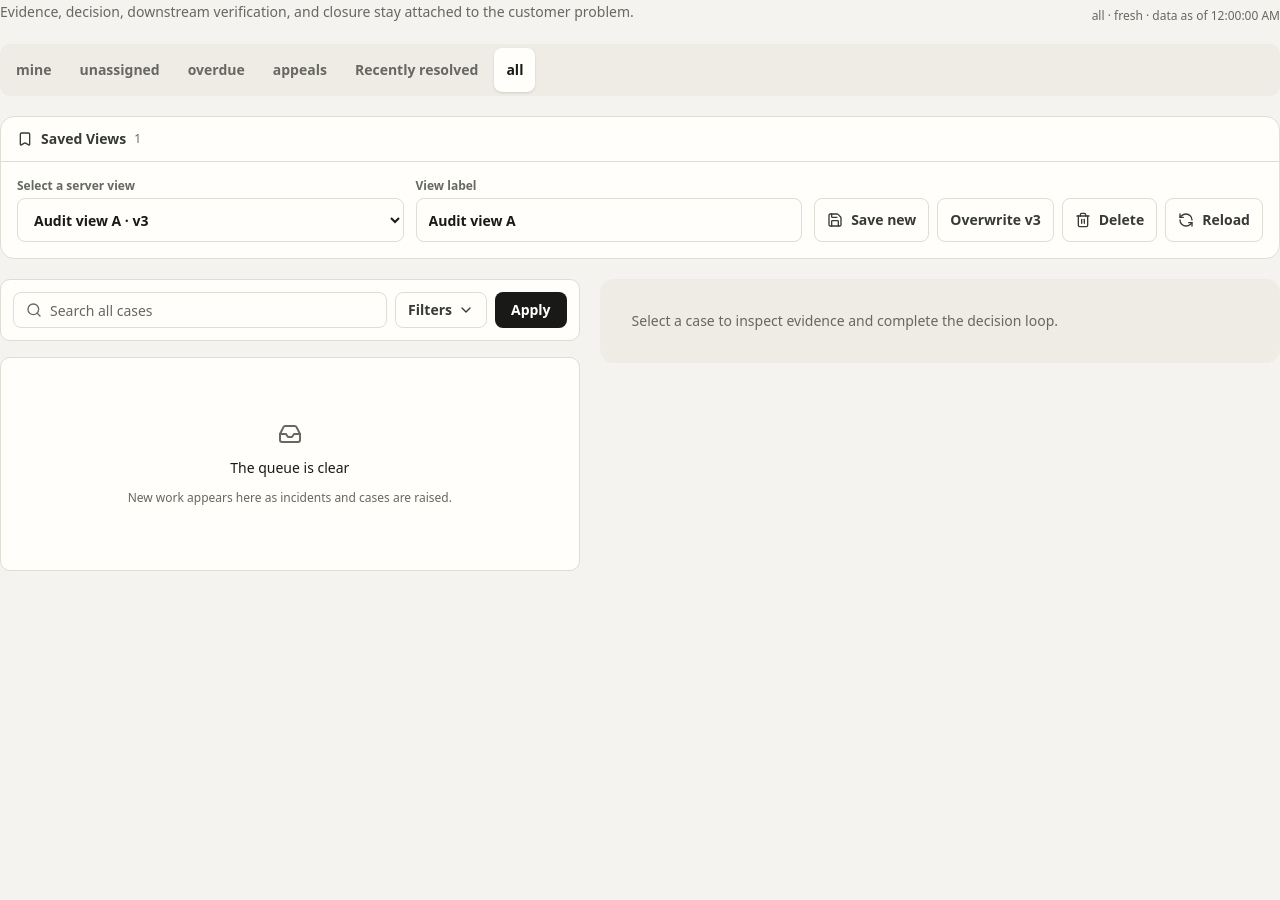
Test case: Saved Views through the Case workspace › describes only the current operator's private view in en confirmations
Click the button "Overwrite v3" at (996, 220), box [937,198,1054,242]
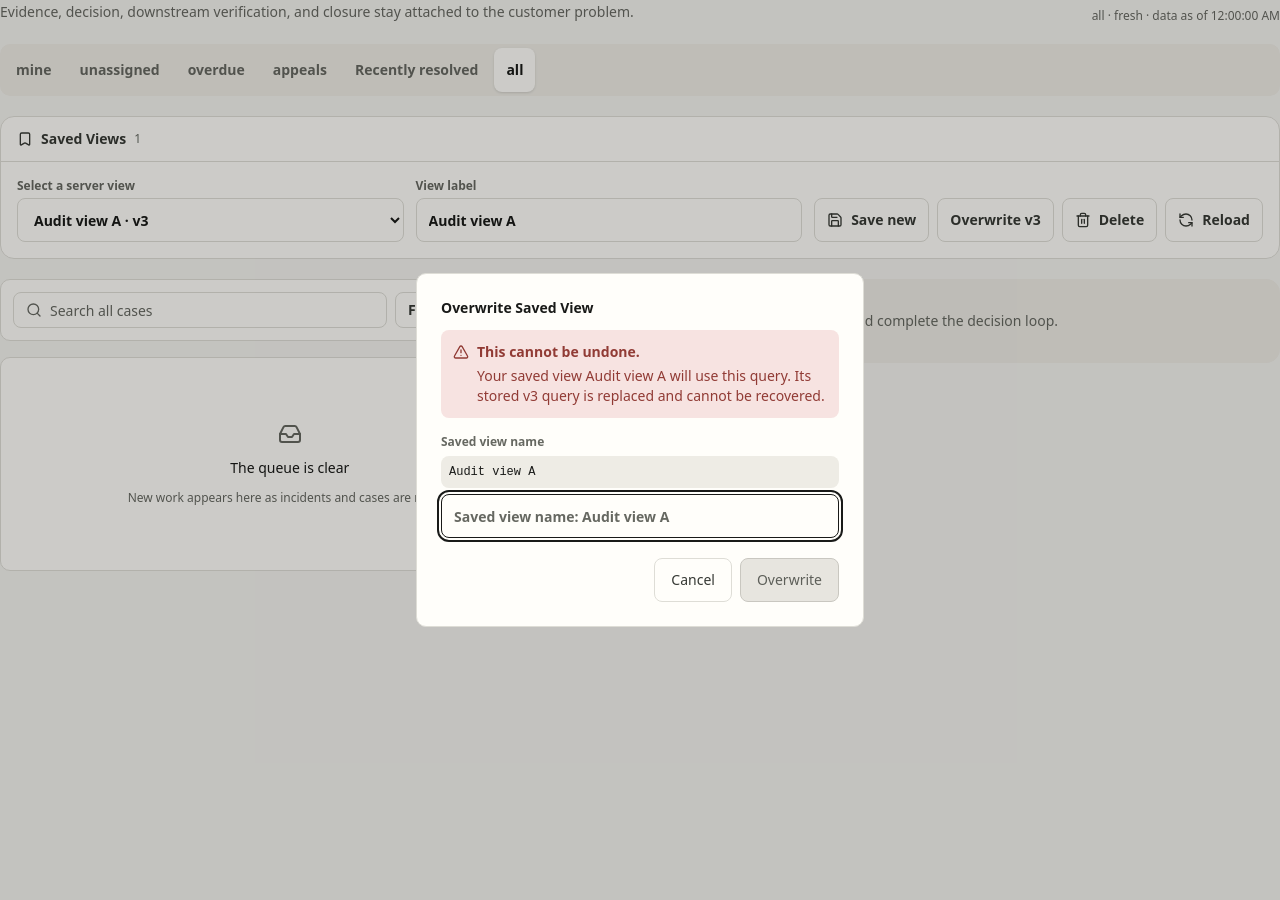
Check: the dialog shows "Overwrite Saved View", box [441,298,594,317]
Check: the dialog shows "Your saved view Audit view A will use this query.", box [477,366,825,405]
Click the button "Cancel" at (693, 580), box [654,558,732,602]
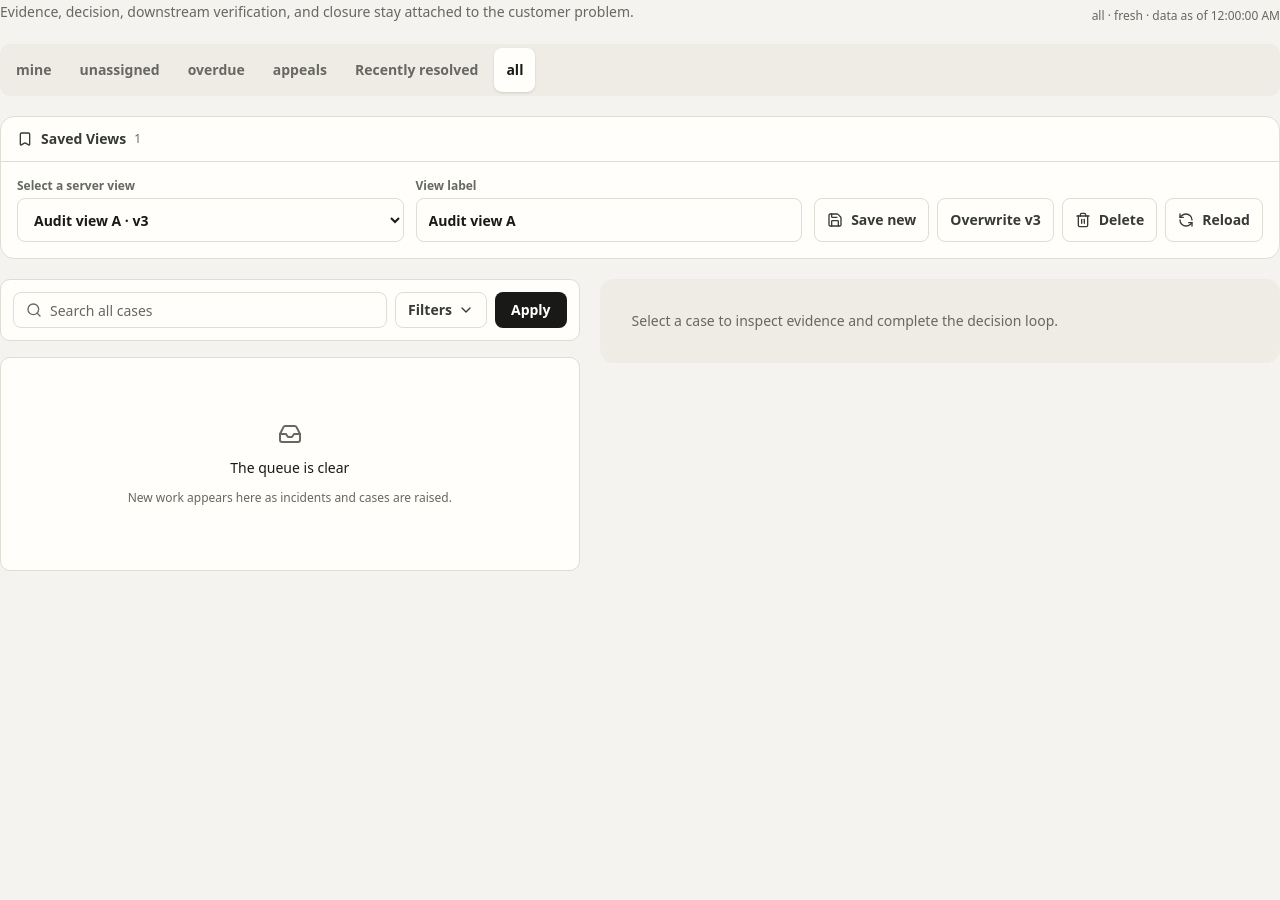
Click the button "Delete" at (1109, 220), box [1062,198,1157,242]
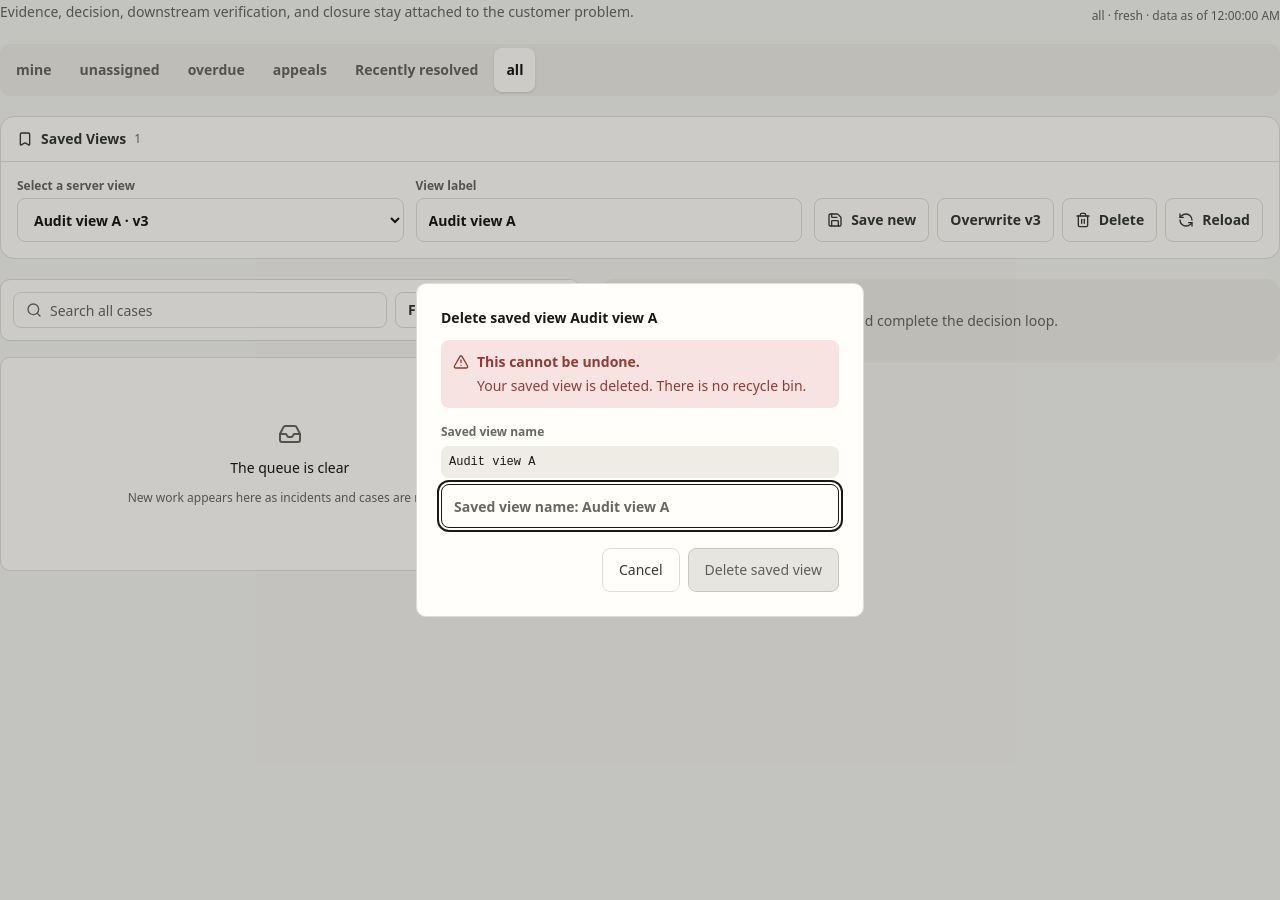
Check: the dialog shows "Your saved view is deleted. There is no recycle bin.", box [477,376,806,395]
